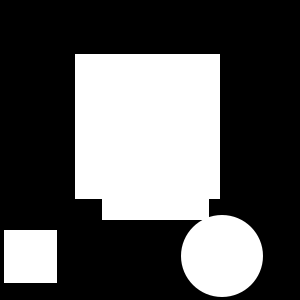circle: (75, 54, 220, 199), (102, 113, 209, 220), (4, 230, 57, 283), (88, 94, 109, 115)
rectangle: (181, 215, 263, 297)
